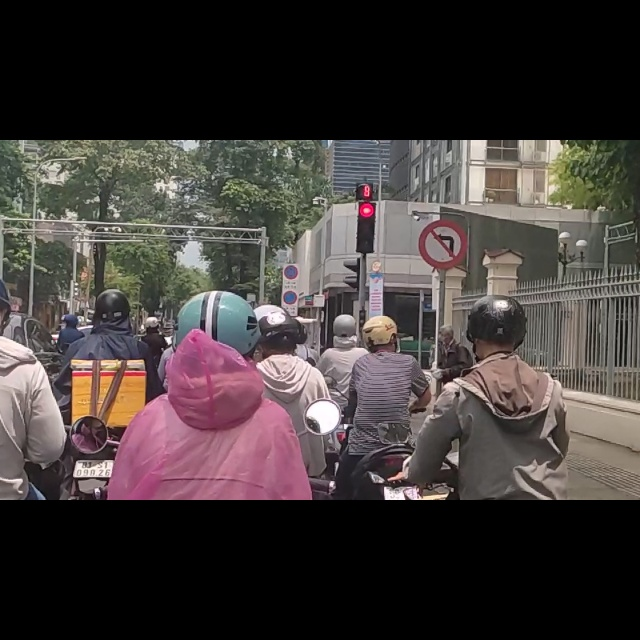bien_chi_dan: (418, 139, 467, 228), (283, 267, 298, 295), (283, 222, 298, 250)
